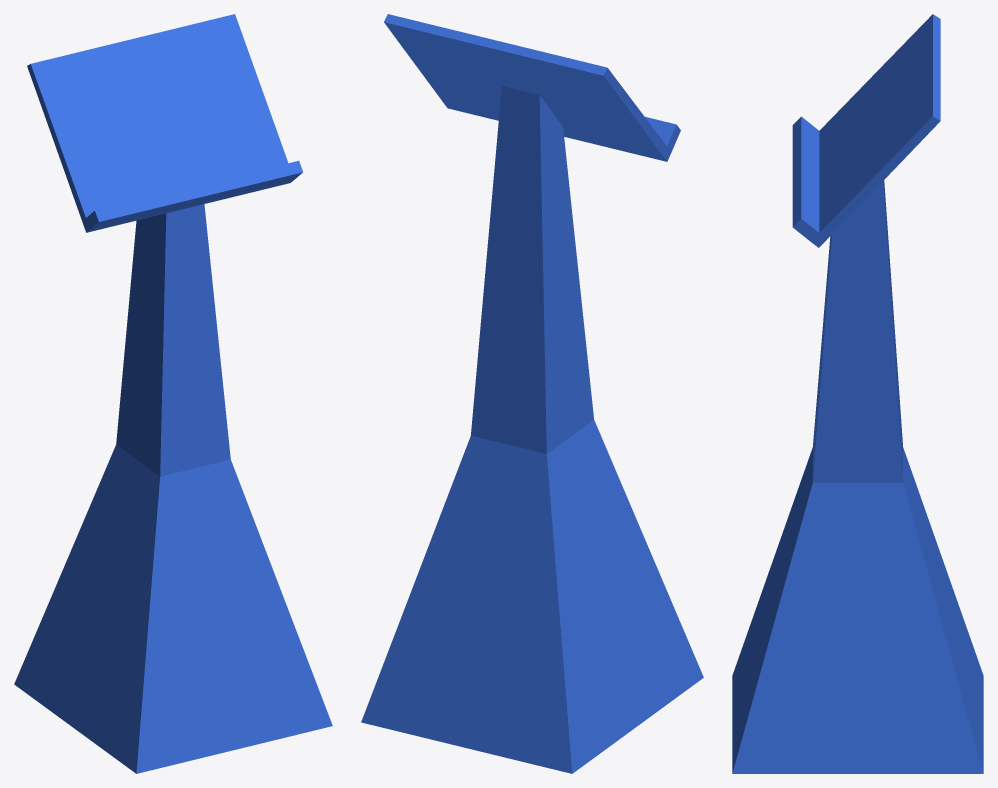
Rendered from Collision_BookStand.fbx.
The picture shows the model from 3 angles, left to right: view 1: azimuth 30°, elevation 25°; view 2: azimuth 150°, elevation 25°; view 3: azimuth 270°, elevation 25°; orthographic projection. The views are drawn at different scales.
Parts seen in each view (by area): view 1: UCX_BookStand_1, UCX_BookStand_3, UCX_BookStand_2, UCX_BookStand_4; view 2: UCX_BookStand_1, UCX_BookStand_2, UCX_BookStand_3; view 3: UCX_BookStand_1, UCX_BookStand_2, UCX_BookStand_3, UCX_BookStand_4.
Part boxes in pixels (<box>): UCX_BookStand_1: <box>14,444,332,773</box>; UCX_BookStand_3: <box>27,14,293,232</box>; UCX_BookStand_2: <box>116,204,230,476</box>; UCX_BookStand_4: <box>86,160,302,229</box>; UCX_BookStand_1: <box>361,420,703,773</box>; UCX_BookStand_2: <box>471,86,593,453</box>; UCX_BookStand_3: <box>384,14,671,161</box>; UCX_BookStand_1: <box>732,447,983,773</box>; UCX_BookStand_2: <box>813,180,902,482</box>; UCX_BookStand_3: <box>811,14,940,247</box>; UCX_BookStand_4: <box>792,116,819,241</box>.
Size of the model in its own units: 48.31 by 145 by 50.06.
